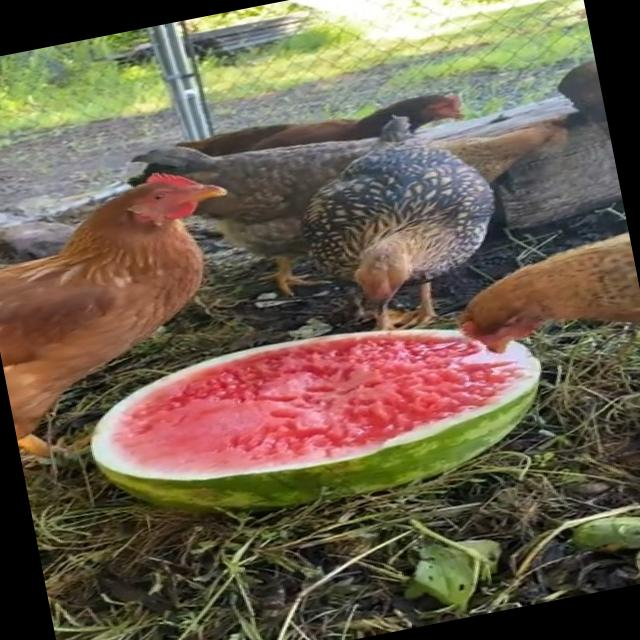feeding: (250, 101, 542, 352), (0, 164, 253, 432), (490, 235, 640, 343)
